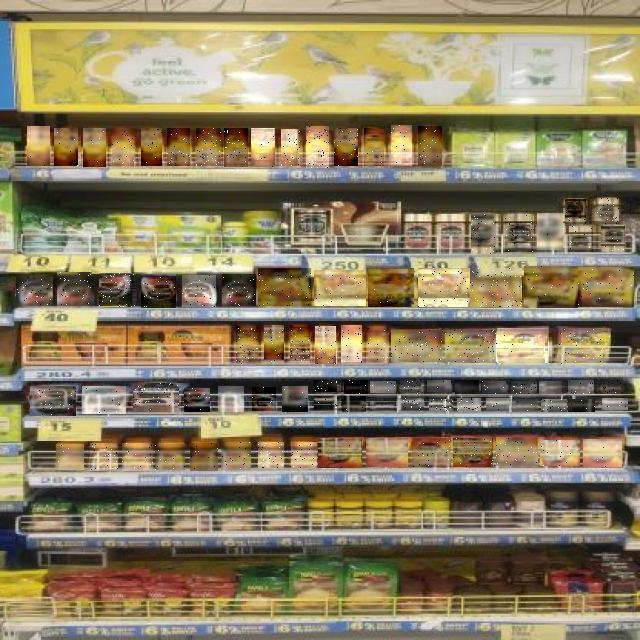Coffee: (524, 266, 578, 308), (578, 267, 634, 307), (470, 268, 522, 307), (418, 268, 470, 307), (258, 268, 311, 306), (498, 328, 552, 363), (314, 271, 366, 307), (559, 328, 611, 364), (368, 268, 414, 307), (446, 330, 498, 362), (392, 330, 444, 362), (30, 386, 76, 416), (318, 438, 362, 468), (133, 384, 179, 412), (496, 438, 538, 468), (83, 386, 127, 414), (58, 272, 94, 306), (100, 273, 136, 307), (366, 438, 408, 467), (454, 438, 496, 467), (141, 274, 176, 308), (16, 274, 53, 306), (412, 438, 451, 467), (583, 439, 622, 467), (222, 274, 256, 306), (182, 275, 216, 307), (505, 214, 533, 252), (472, 214, 498, 254), (540, 440, 580, 466), (537, 214, 563, 252), (306, 126, 329, 168), (418, 126, 442, 166), (196, 128, 221, 166), (224, 128, 248, 167), (251, 128, 275, 167), (27, 126, 50, 166), (54, 128, 78, 166), (334, 129, 358, 167), (83, 128, 106, 167), (167, 128, 190, 166), (122, 443, 153, 471), (391, 125, 412, 166), (221, 442, 251, 470), (112, 128, 134, 166), (236, 327, 258, 365), (141, 129, 162, 167), (341, 326, 362, 364), (315, 327, 336, 365), (190, 443, 218, 471), (90, 443, 118, 471), (155, 444, 185, 470), (364, 128, 384, 166), (264, 326, 284, 364), (290, 326, 310, 364), (368, 326, 389, 362), (282, 129, 302, 166), (56, 445, 84, 471), (570, 226, 596, 252), (283, 386, 309, 412), (218, 386, 244, 412), (259, 443, 285, 469), (291, 443, 317, 469), (601, 226, 625, 252), (185, 388, 211, 412), (596, 198, 619, 224), (252, 387, 276, 411), (565, 199, 586, 224), (600, 380, 628, 394), (342, 396, 366, 412), (568, 380, 594, 394), (568, 399, 595, 412), (511, 381, 537, 394), (513, 399, 539, 412), (541, 399, 567, 412), (455, 380, 479, 394), (344, 380, 368, 394), (401, 380, 425, 394), (314, 396, 337, 410), (370, 381, 396, 393), (540, 381, 564, 394), (483, 381, 507, 394), (399, 398, 425, 410), (370, 398, 396, 410), (603, 398, 629, 410), (457, 398, 481, 411), (486, 398, 509, 411), (427, 380, 451, 392), (430, 400, 454, 412), (314, 380, 337, 392)
